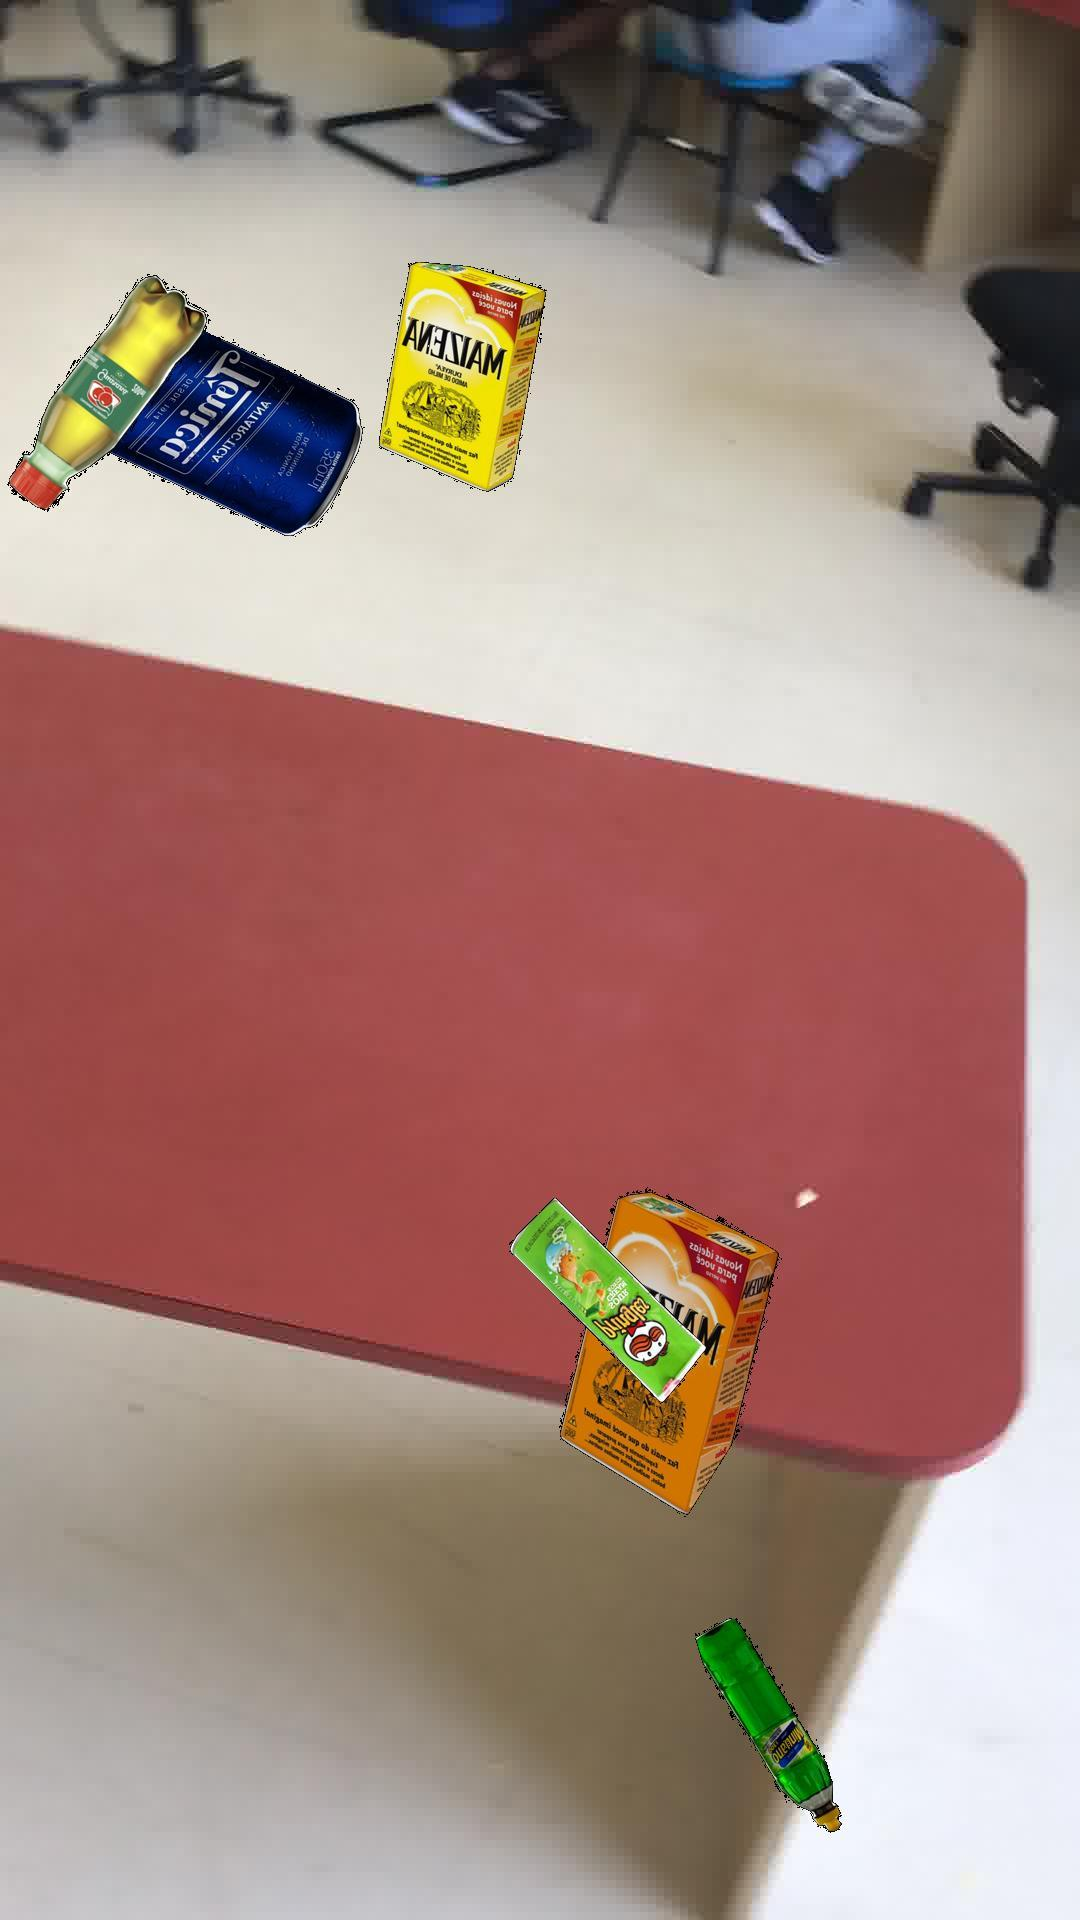cleaner: (694, 1617, 840, 1832)
guarana: (5, 273, 206, 510)
pringles: (508, 1196, 705, 1402)
tonic: (108, 330, 361, 534)
